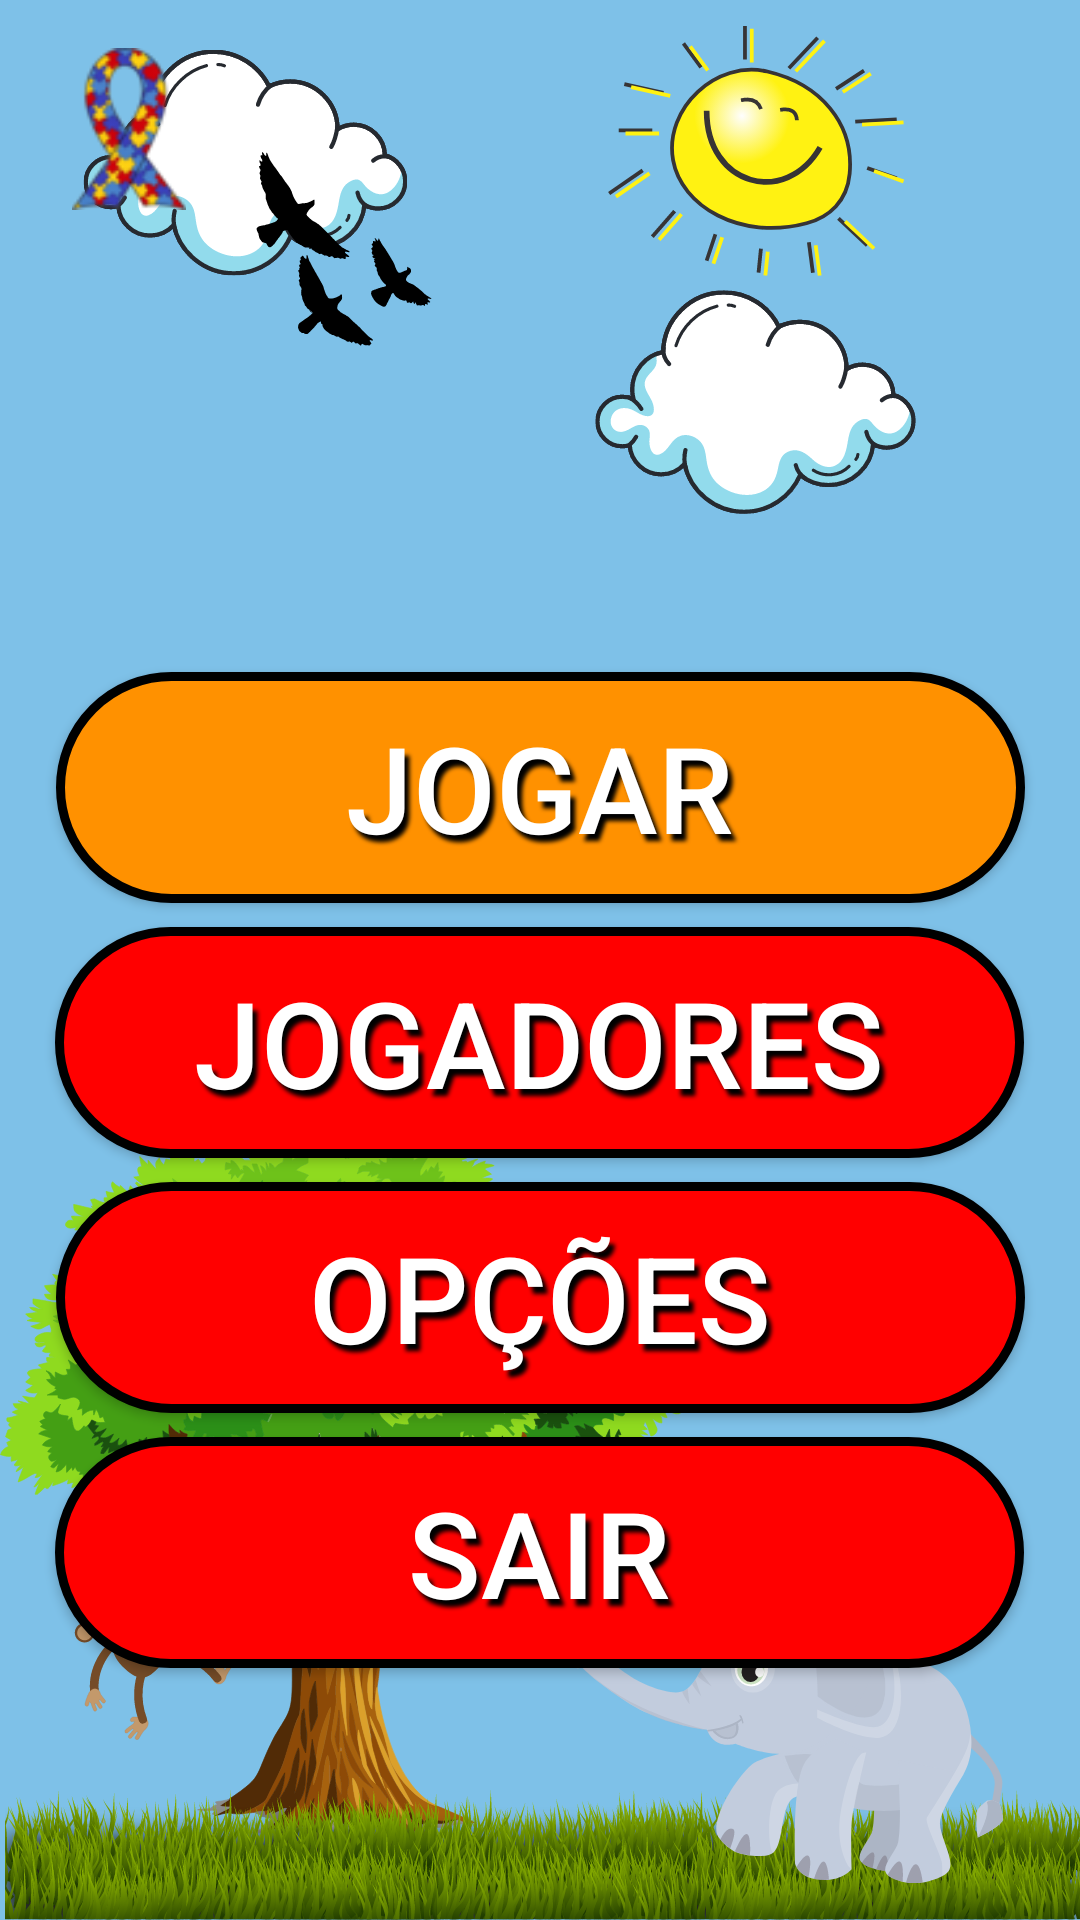

Named icons in this screenshot (1080px x 1920px) and their centers, point (x, y):
autisto: point (141, 129)
